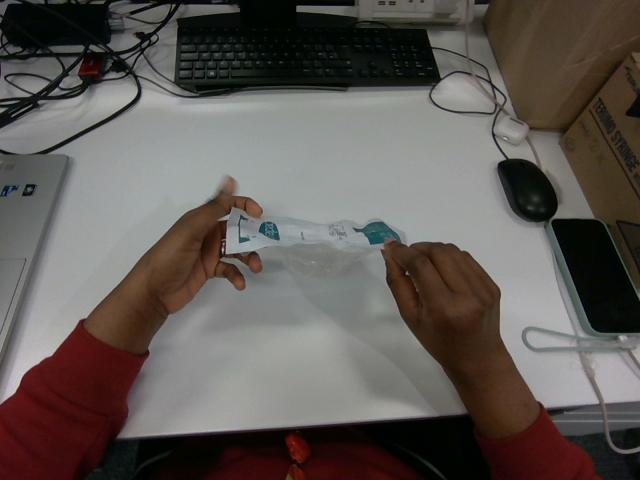gallipot: (225, 208, 404, 276), (226, 208, 403, 253)
